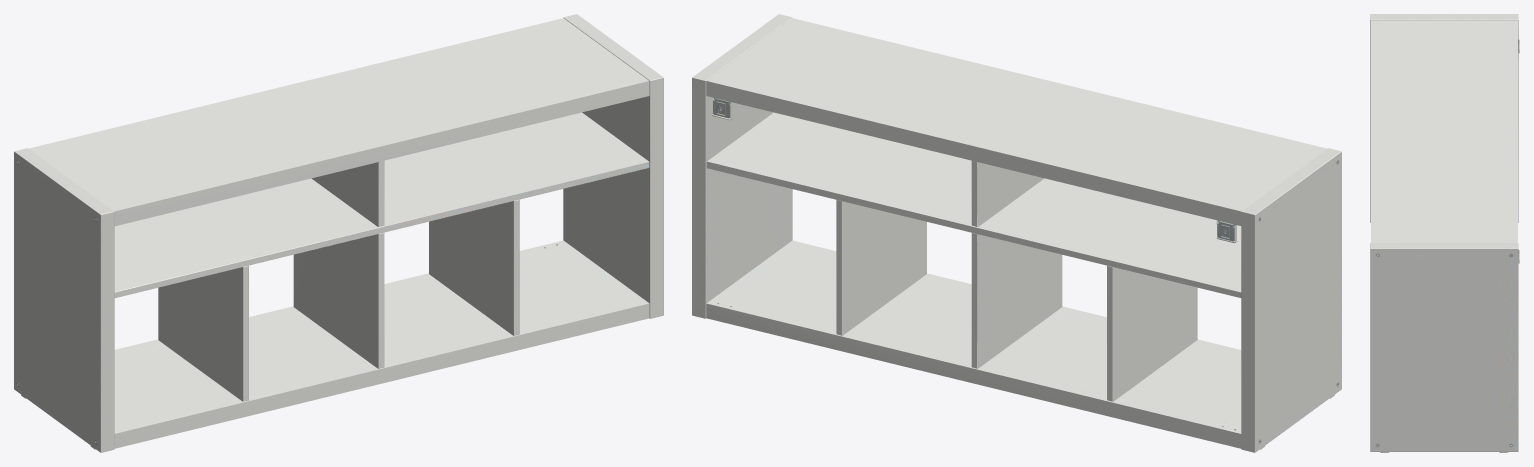
File: 16 - KALLAX TV bench - white 147x60 cm.glb
The picture shows the model from 3 angles, left to right: view 1: azimuth 30°, elevation 25°; view 2: azimuth 150°, elevation 25°; view 3: azimuth 270°, elevation 25°; orthographic projection. The views are drawn at different scales.
Visible parts, largest first — view 1: 70562087-KALLAX001; view 2: 70562087-KALLAX001; view 3: 70562087-KALLAX001.
Boxes of the visible parts, box(x1,y1,x2,y2) form: 70562087-KALLAX001: box(14, 14, 663, 452); 70562087-KALLAX001: box(692, 14, 1341, 452); 70562087-KALLAX001: box(1370, 14, 1519, 452).
Bounding box in the file's own units: 1.47 × 0.596 × 0.3948.
1 material, 1 textured.
